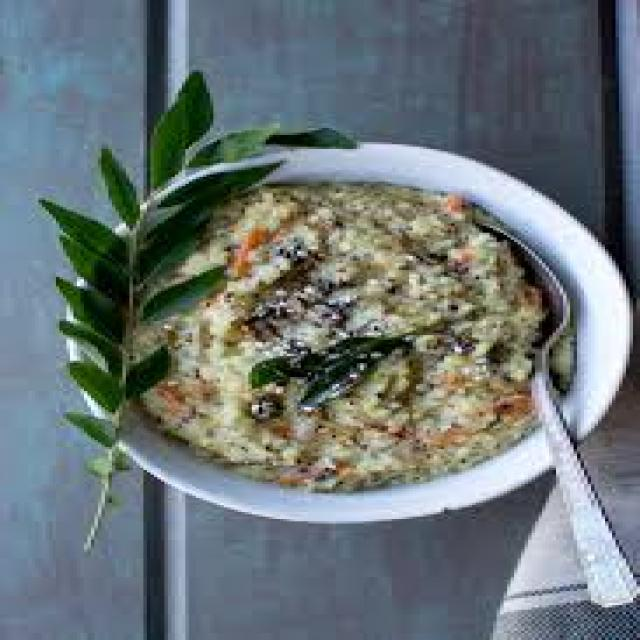UPMA: (129, 182, 546, 489)
